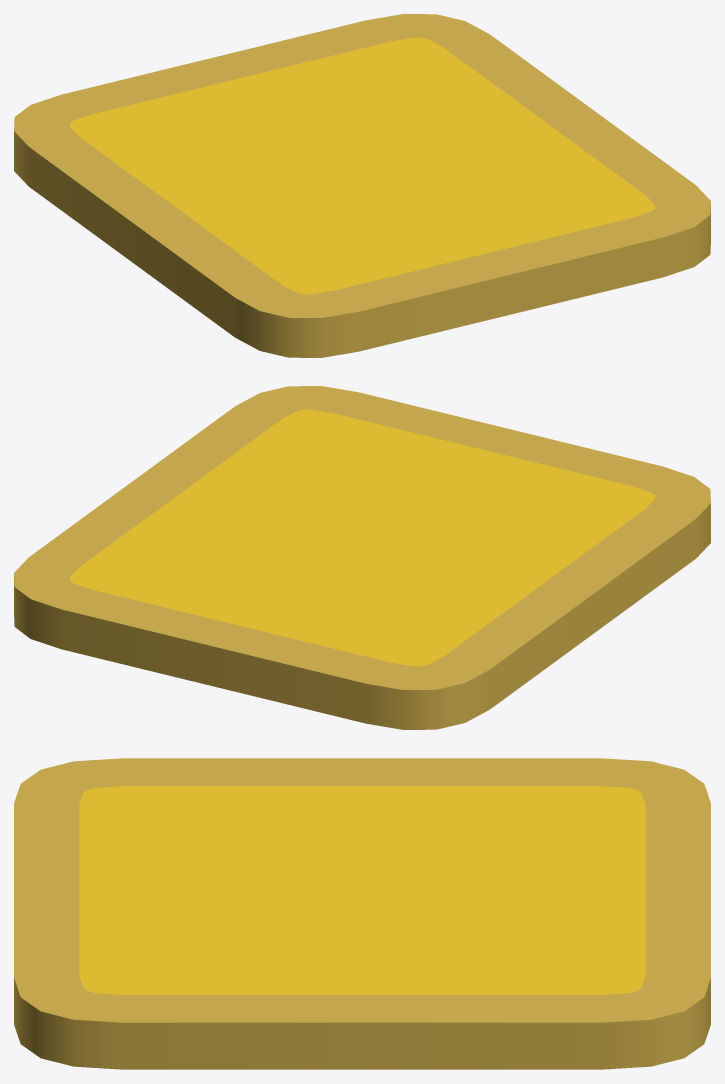
Rendered from sandfield01_s02.FBX.
3 renders of one model, top to bottom at view 1: azimuth 30°, elevation 25°; view 2: azimuth 150°, elevation 25°; view 3: azimuth 270°, elevation 25°, orthographic. The views are drawn at different scales.
Visible parts, largest first — view 1: sandfield01_s02; view 2: sandfield01_s02; view 3: sandfield01_s02.
Part boxes in pixels (x1=…): sandfield01_s02: x1=14, y1=14, x2=710, y2=357; sandfield01_s02: x1=14, y1=386, x2=710, y2=729; sandfield01_s02: x1=14, y1=758, x2=710, y2=1069.
Size of the model in its own units: 294 by 328 by 24.31.
Materials: 1 (1 with a texture image).
